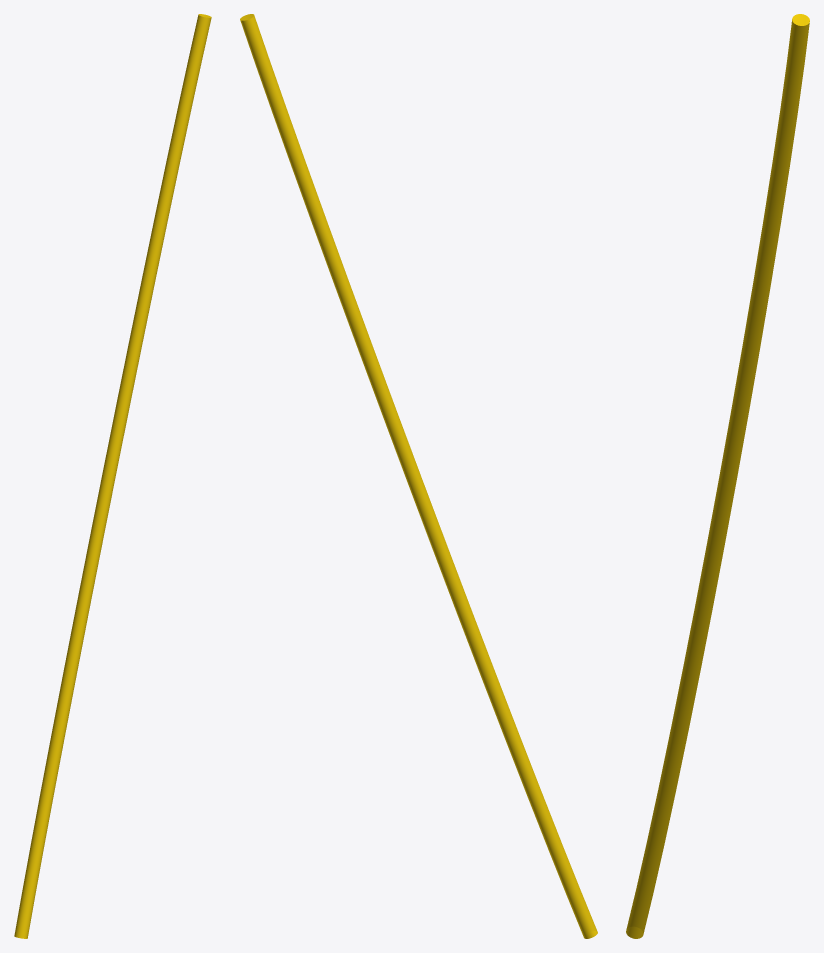
File: Event_421127236_track_21.fbx
3 renders of one model, left to right at view 1: azimuth 30°, elevation 25°; view 2: azimuth 150°, elevation 25°; view 3: azimuth 270°, elevation 25°, orthographic. The views are drawn at different scales.
Visible parts, largest first — view 1: Model; view 2: Model; view 3: Model.
Part boxes in pixels (bbox=[...]): Model: bbox=[14, 14, 211, 938]; Model: bbox=[240, 14, 597, 938]; Model: bbox=[626, 14, 809, 938].
Bounding box in the file's own units: 0.8776 × 2.66 × 0.4114.
